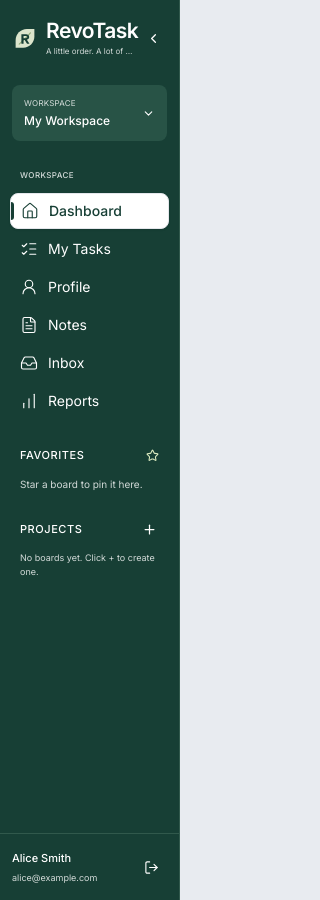
it: D1 — Sidebar collapse › clicking toggle sets data-collapsed=true and updates aria-label
Click the button named "Collapse sidebar".
click(153, 38)  # box [139, 24, 167, 52]
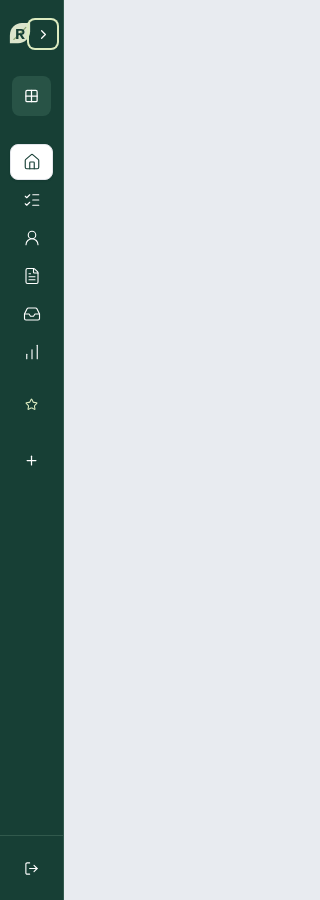
Expected: the button named "Expand sidebar" is shown, [29, 20, 57, 48]
